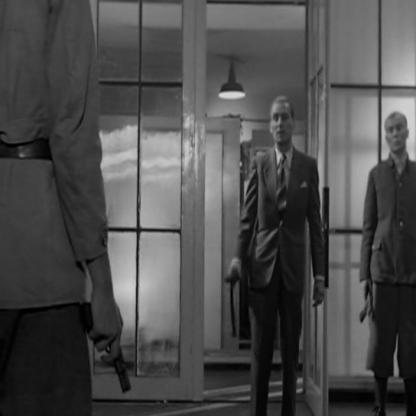gun: (84, 291, 135, 384)
